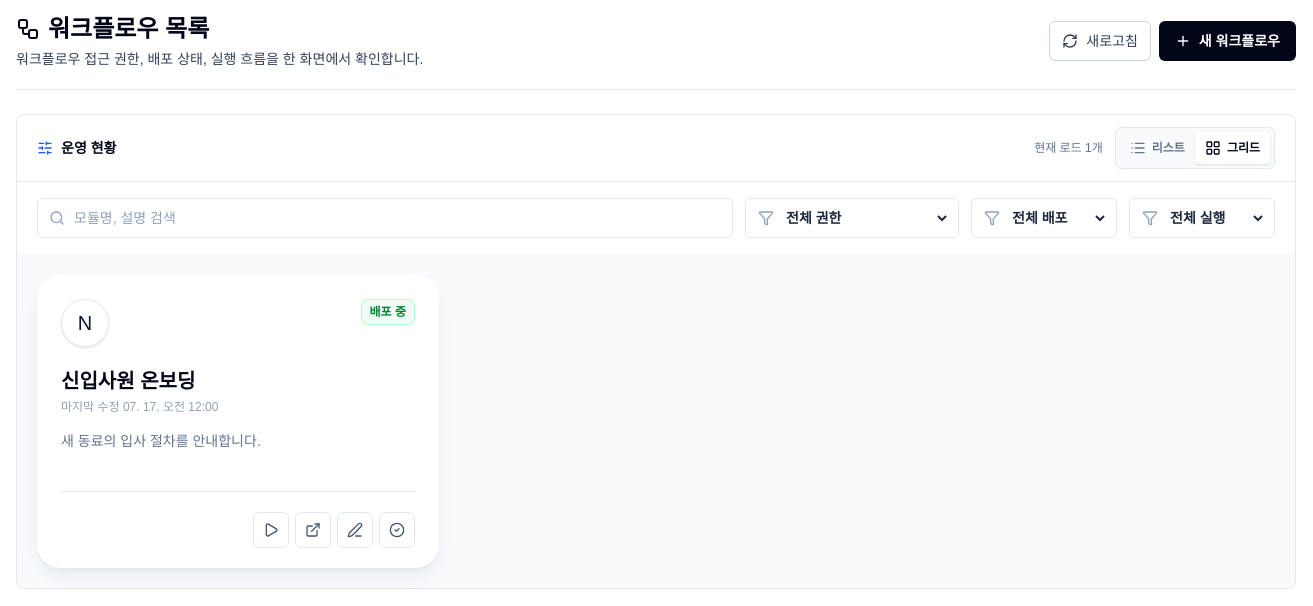
Scenario: 워크플로우 운영 현황 보기 전환 › 기본 그리드에서 리스트로 전환하고 선택을 저장한다
Click the button with aria-label "리스트 보기": (1157, 148) [1120,132,1195,164]
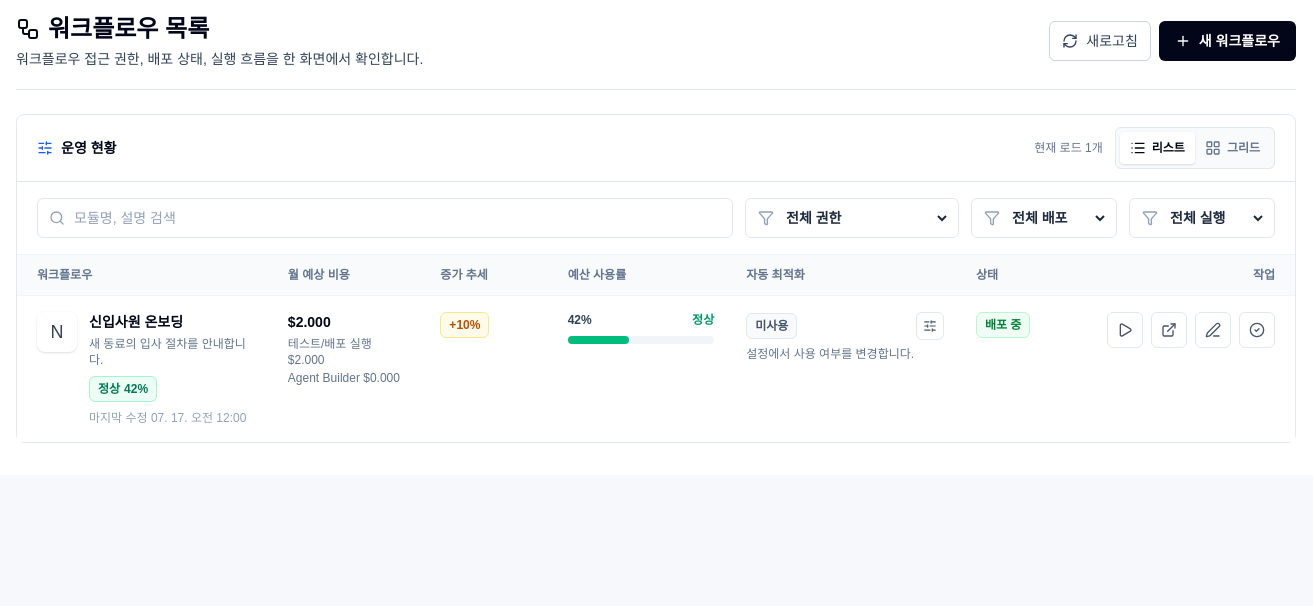
Check: the table is shown, box [17,255,1295,442]
